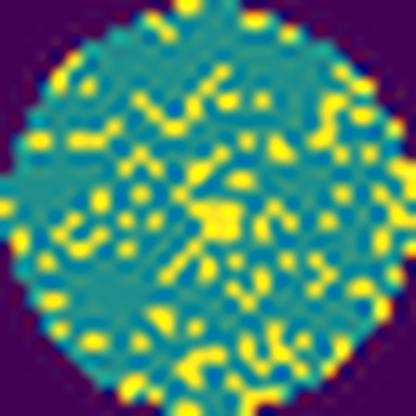Center: (152, 141, 248, 289)
